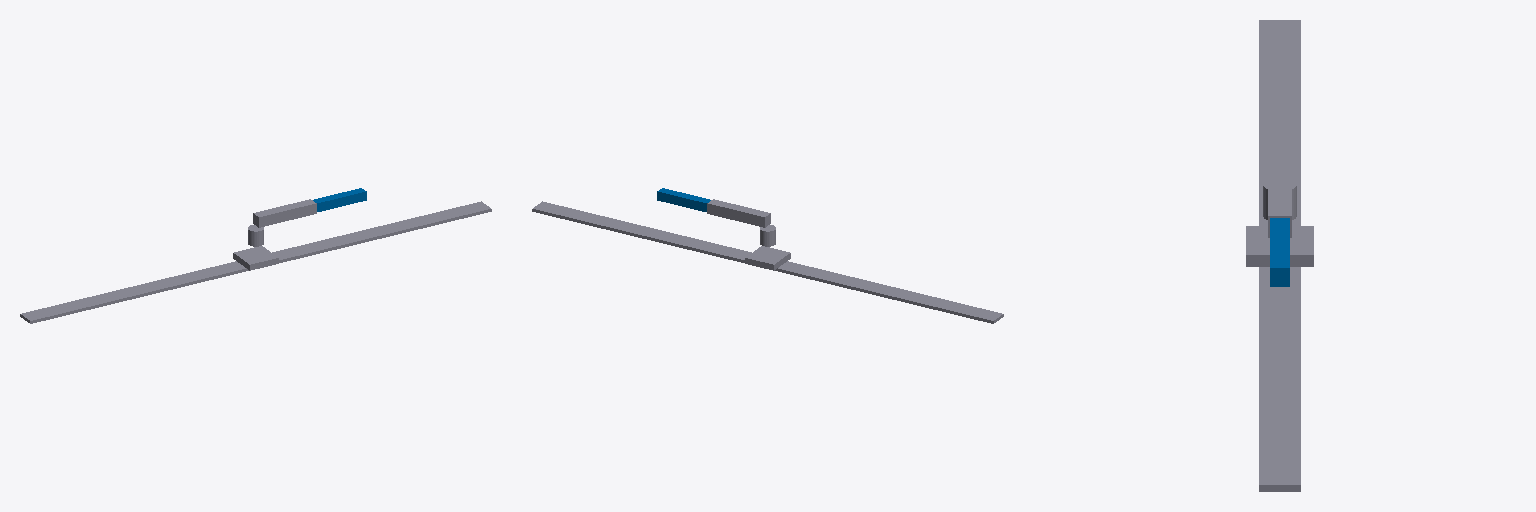
robot.urdf — rail6:
<?xml version="1.0"?>
<!-- arm6 on a linear rail: seven joints, but only six of them rotary.

     This is the redundancy most robot cells actually have. The extra joint is
     not an elbow to swing, it is an external axis an operator positions, and the
     arm then reaches from wherever the carriage stands. So the rail is held by
     hand and IK solves the six-axis arm, rather than both being handed to the
     solver as one seven-joint problem it could resolve any way it liked.

     The rail runs along X, under the arm's base. Everything above the carriage
     is arm6 unchanged. -->
<robot name="rail6">
  <material name="steel"><color rgba="0.6 0.6 0.65 1.0"/></material>

  <link name="base">
    <visual>
      <origin xyz="0 0 0.01"/>
      <geometry><box size="3.2 0.12 0.02"/></geometry>
      <material name="steel"/>
    </visual>
  </link>
  <link name="carriage">
    <visual>
      <geometry><box size="0.2 0.2 0.04"/></geometry>
      <material name="steel"/>
    </visual>
  </link>
  <link name="shoulder">
    <visual>
      <geometry><cylinder radius="0.05" length="0.1"/></geometry>
      <material name="steel"/>
    </visual>
  </link>
  <link name="upper_arm">
    <visual>
      <origin xyz="0.2 0 0"/>
      <geometry><box size="0.4 0.07 0.07"/></geometry>
      <material name="steel"/>
    </visual>
  </link>
  <link name="forearm">
    <visual>
      <origin xyz="0.175 0 0"/>
      <geometry><box size="0.35 0.06 0.06"/></geometry>
    </visual>
  </link>
  <link name="wrist_1"/>
  <link name="wrist_2"/>
  <link name="wrist_3"/>
  <link name="tool"/>

  <joint name="rail" type="prismatic">
    <parent link="base"/><child link="carriage"/>
    <origin xyz="0 0 0.04" rpy="0 0 0"/><axis xyz="1 0 0"/>
    <limit lower="-1.5" upper="1.5" effort="500" velocity="1.0"/>
  </joint>
  <joint name="joint1" type="revolute">
    <parent link="carriage"/><child link="shoulder"/>
    <origin xyz="0 0 0.15" rpy="0 0 0"/><axis xyz="0 0 1"/>
    <limit lower="-3.14" upper="3.14" effort="150" velocity="3.15"/>
  </joint>
  <joint name="joint2" type="revolute">
    <parent link="shoulder"/><child link="upper_arm"/>
    <origin xyz="0 0 0.1" rpy="0 0 0"/><axis xyz="0 1 0"/>
    <limit lower="-2.5" upper="2.5" effort="150" velocity="3.15"/>
  </joint>
  <joint name="joint3" type="revolute">
    <parent link="upper_arm"/><child link="forearm"/>
    <origin xyz="0.4 0 0" rpy="0 0 0"/><axis xyz="0 1 0"/>
    <limit lower="-2.8" upper="2.8" effort="150" velocity="3.15"/>
  </joint>
  <joint name="joint4" type="revolute">
    <parent link="forearm"/><child link="wrist_1"/>
    <origin xyz="0.35 0 0" rpy="0 0 0"/><axis xyz="1 0 0"/>
    <limit lower="-3.14" upper="3.14" effort="28" velocity="3.2"/>
  </joint>
  <joint name="joint5" type="revolute">
    <parent link="wrist_1"/><child link="wrist_2"/>
    <origin xyz="0.1 0 0" rpy="0 0 0"/><axis xyz="0 1 0"/>
    <limit lower="-2.0" upper="2.0" effort="28" velocity="3.2"/>
  </joint>
  <joint name="joint6" type="revolute">
    <parent link="wrist_2"/><child link="wrist_3"/>
    <origin xyz="0.08 0 0" rpy="0 0 0"/><axis xyz="1 0 0"/>
    <limit lower="-3.14" upper="3.14" effort="28" velocity="3.2"/>
  </joint>
  <joint name="wrist_to_tool" type="fixed">
    <parent link="wrist_3"/><child link="tool"/>
    <origin xyz="0.05 0 0" rpy="0 0 0"/>
  </joint>
</robot>

--- Render facts (derived) ---
3 views of the same robot in one strip: view 1: azimuth 30°, elevation 25°; view 2: azimuth 150°, elevation 25°; view 3: azimuth 270°, elevation 25° (orthographic).
Robot: rail6 — 9 links, 8 joints (6 revolute, 1 prismatic, 1 fixed); root link base; default pose: every joint at zero.
Links seen in each view (by area): view 1: base, upper_arm, carriage, forearm; view 2: base, upper_arm, carriage, forearm; view 3: base, carriage, upper_arm, forearm.
Boxes of the visible links, left/top/right/bottom form: base: left=20, top=201, right=491, bottom=323; upper_arm: left=253, top=199, right=316, bottom=227; carriage: left=233, top=246, right=278, bottom=270; forearm: left=313, top=188, right=366, bottom=211; base: left=532, top=201, right=1003, bottom=323; upper_arm: left=707, top=199, right=770, bottom=227; carriage: left=745, top=246, right=790, bottom=270; forearm: left=657, top=188, right=710, bottom=211; base: left=1259, top=20, right=1300, bottom=491; carriage: left=1246, top=226, right=1313, bottom=266; upper_arm: left=1268, top=158, right=1291, bottom=237; forearm: left=1270, top=218, right=1289, bottom=286.
Bounding box of the posed robot: 3.2 × 0.2 × 0.325 m (x, y, z).
Geometry: primitives only (box / cylinder / sphere), no mesh files.
